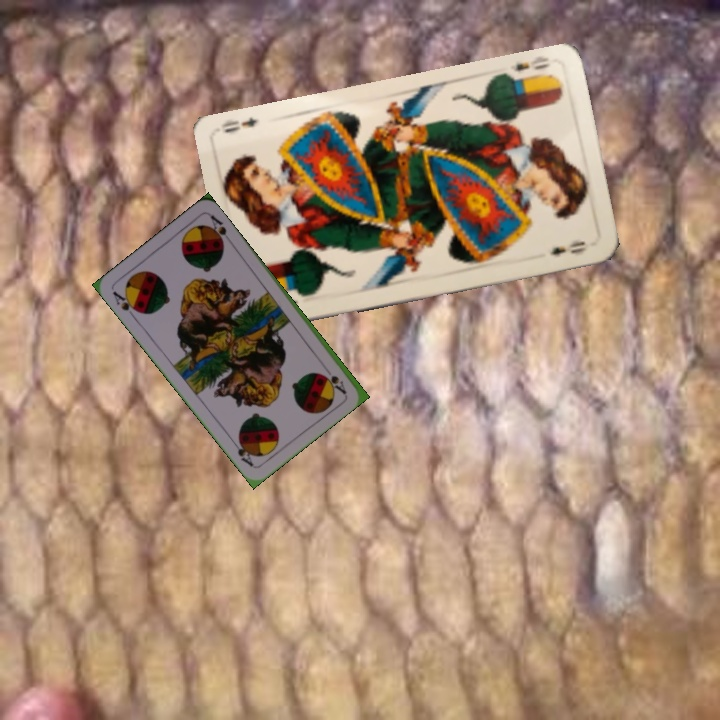EO: (506, 52, 553, 74)
SA: (108, 286, 143, 321), (326, 371, 349, 396)
